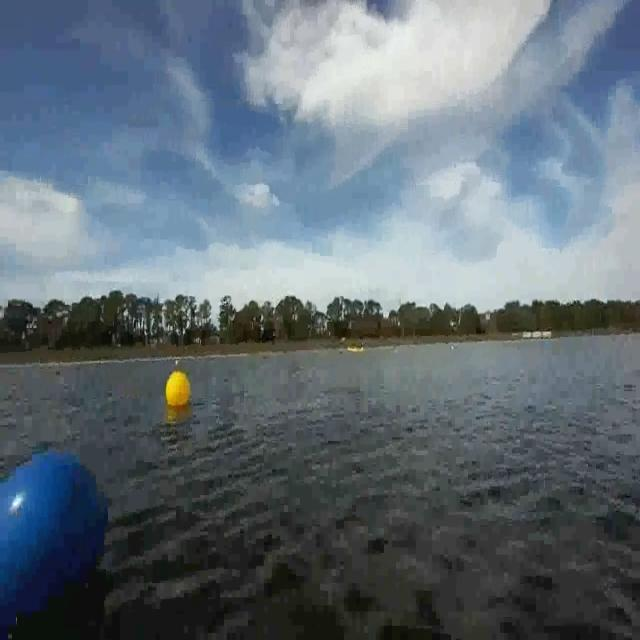blue-buoy: (2, 450, 111, 614)
yellow-buoy: (166, 370, 191, 408)
